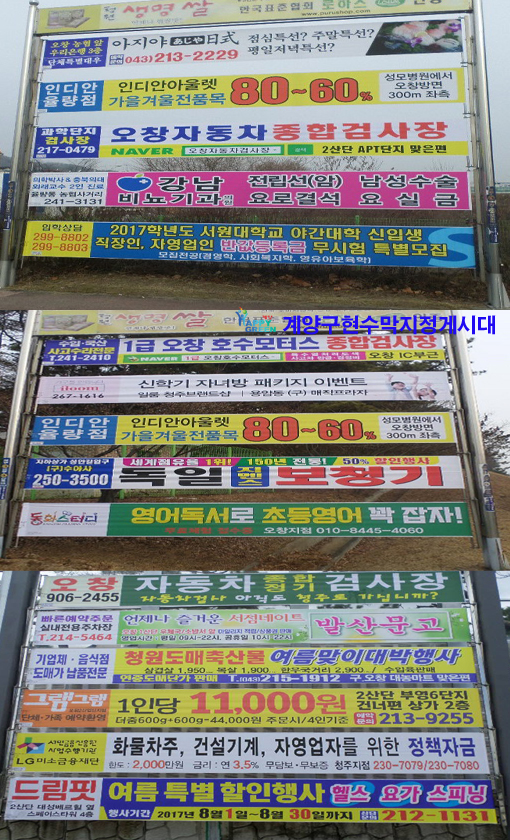banner: (25, 219, 476, 267), (20, 500, 472, 546), (3, 780, 497, 821), (38, 65, 465, 108), (48, 16, 464, 59), (11, 733, 494, 770), (31, 172, 468, 211), (18, 689, 481, 725), (25, 649, 473, 683), (34, 611, 467, 643), (30, 124, 471, 155), (34, 413, 453, 444), (28, 458, 460, 488), (44, 574, 465, 602), (45, 333, 444, 362), (39, 375, 447, 399)
